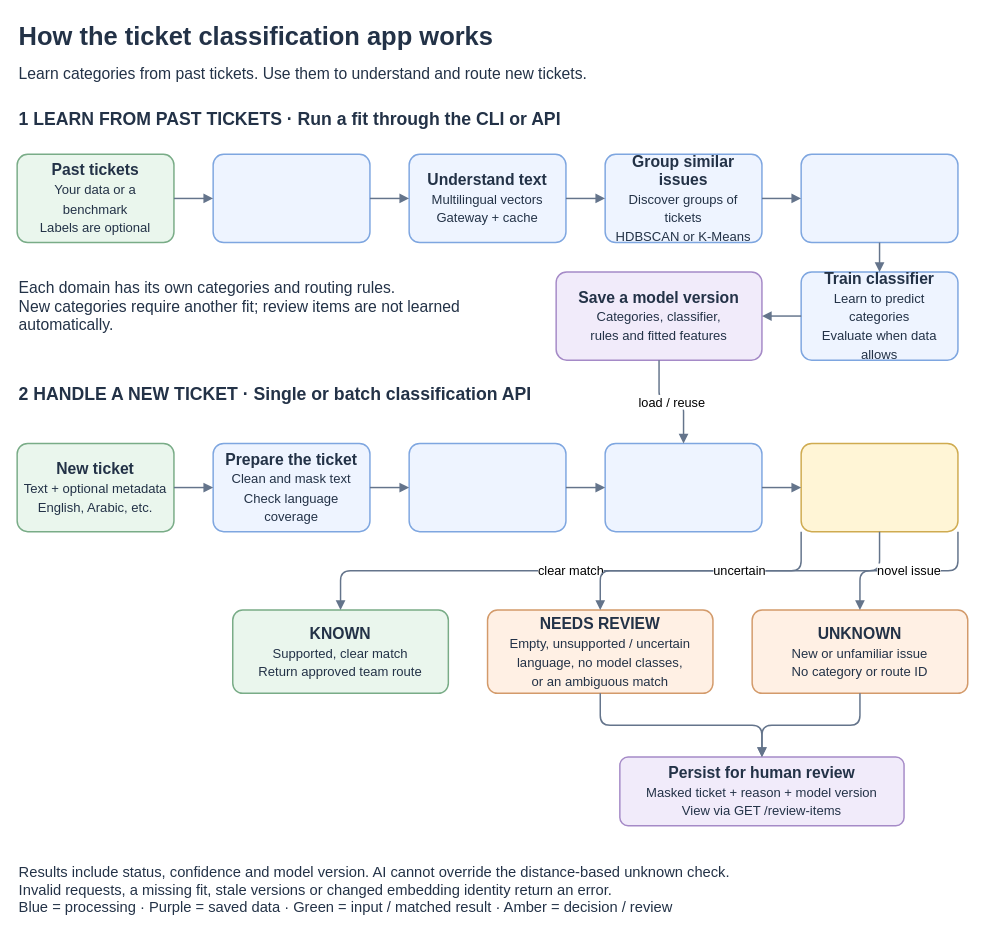
Image size: 986x945. Some labels were removed from this diagram. Here are the shapes that lost their labels. From the top down, the centre of each, then its label:
At point (291, 198): "Prepare the data Validate, split safely, clean and mask text".
At point (879, 198): "Name categories Keywords + examples Optional AI naming".
At point (487, 487): "Build its features Meaning + words + configured metadata".
At point (683, 487): "Classify ticket Use saved model + check distance from known issues".
At point (879, 487): "Choose outcome Optional AI second opinion for ambiguous / novel input".
